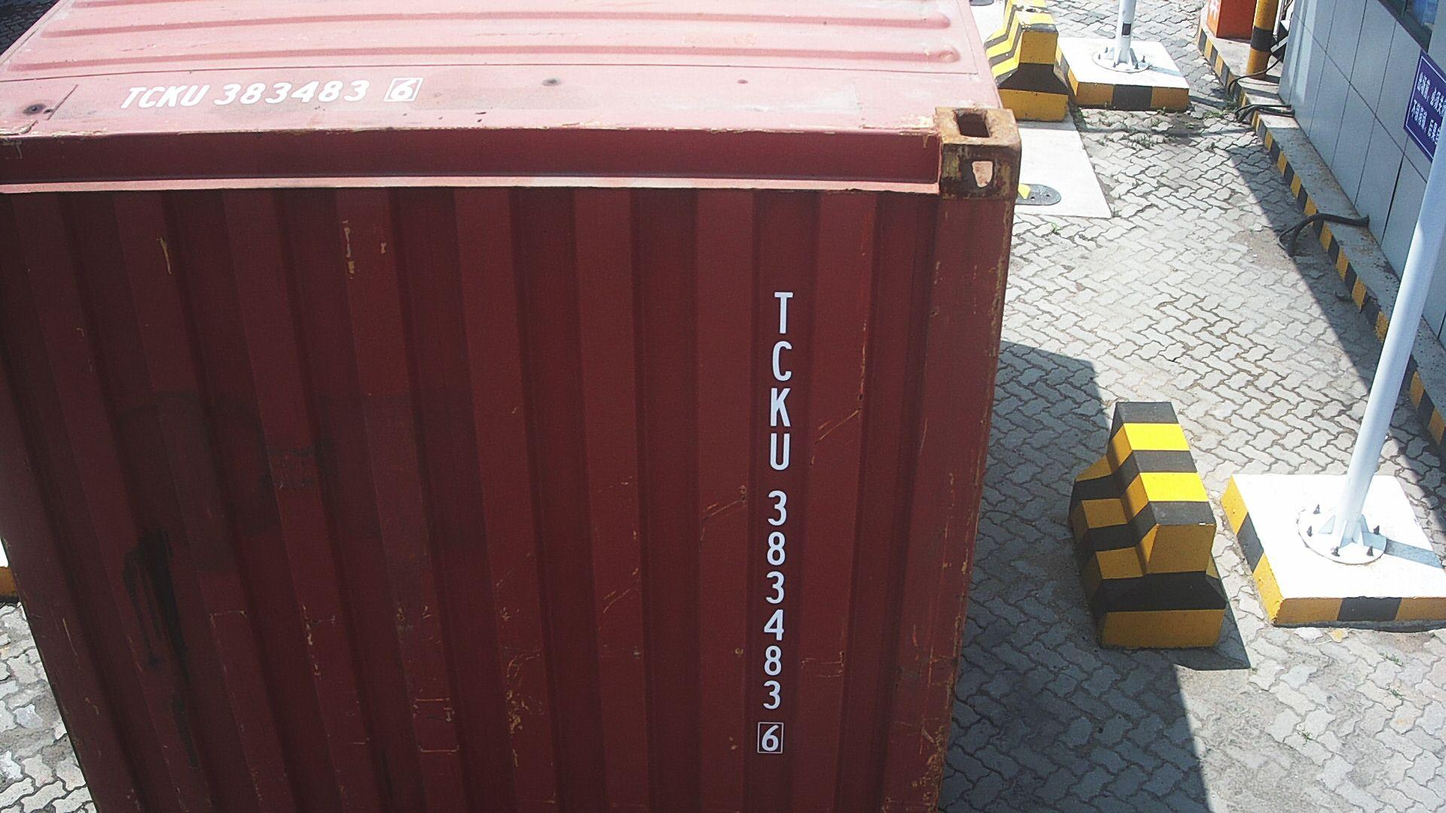container-numbers: (752, 285, 800, 758), (114, 77, 430, 113)
